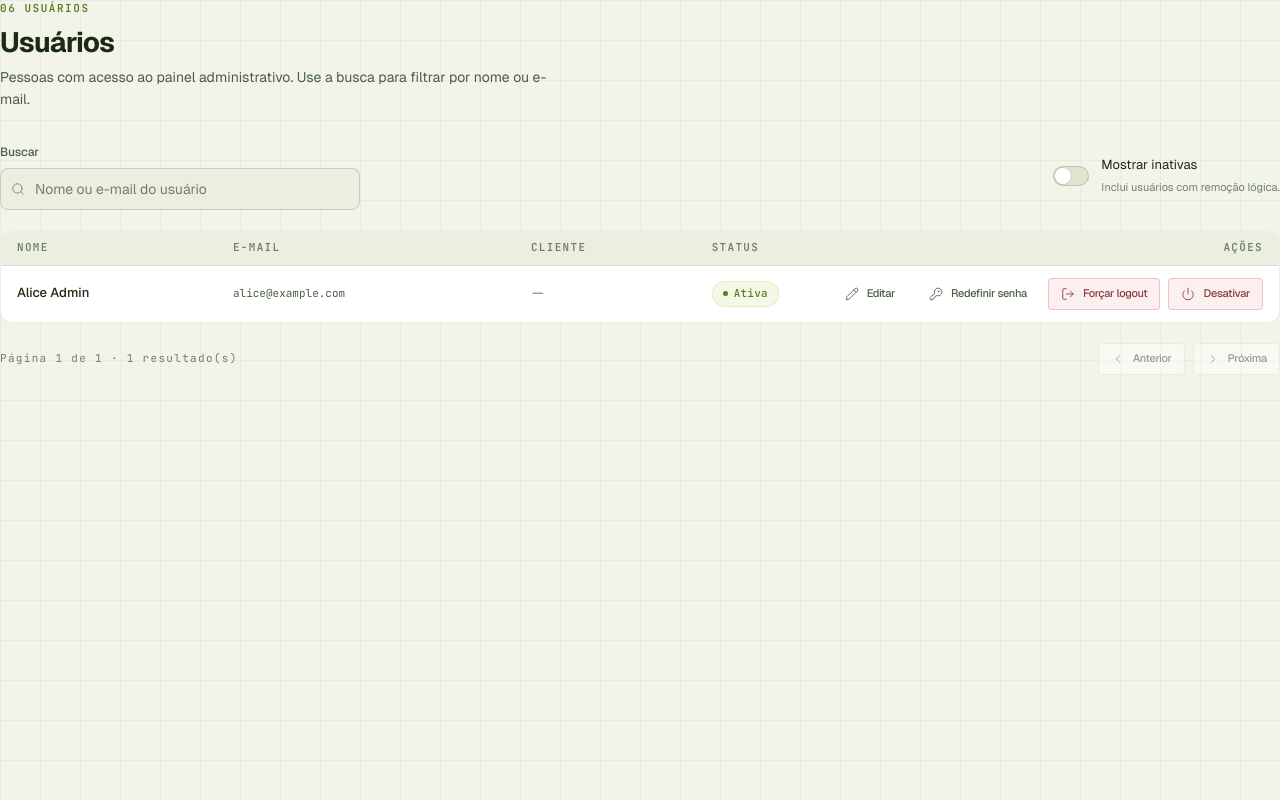
Test: UsersListShellPage — reset de senha (Issue #81) › abertura do modal de reset › fechar via botão Cancelar não dispara PUT
Click the button "Redefinir senha": {"x": 978, "y": 294} [916, 278, 1040, 310]
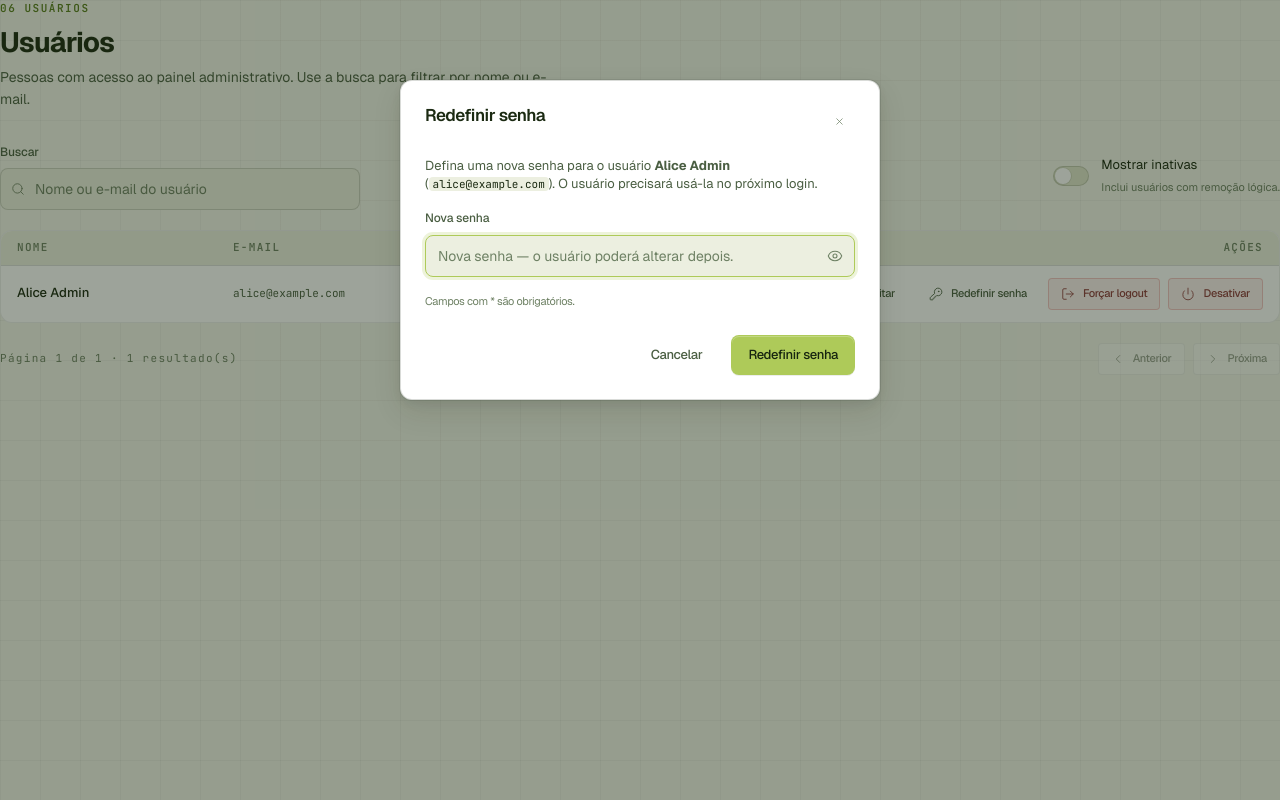
Expected: the form with test id "reset-user-password-form" is shown, [425, 157, 855, 374]
Expected: the dialog is shown, [400, 80, 880, 400]
Click the button with test id "reset-user-password-cancel": {"x": 677, "y": 354} [634, 334, 719, 374]
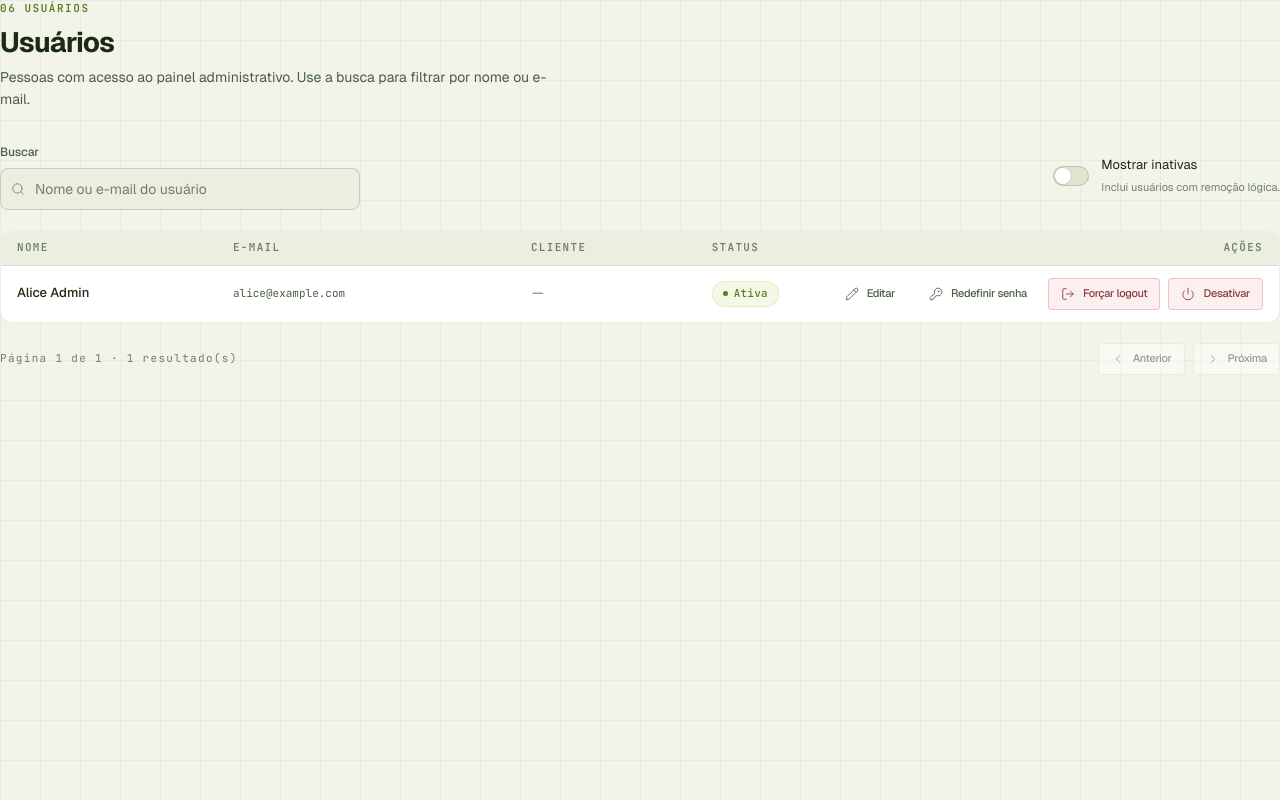
Expected: the dialog is gone
